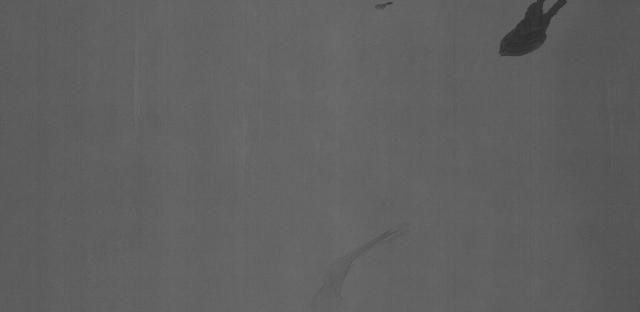oil_spot: (492, 0, 577, 62), (370, 2, 394, 13)
water_spot: (311, 225, 400, 312)
